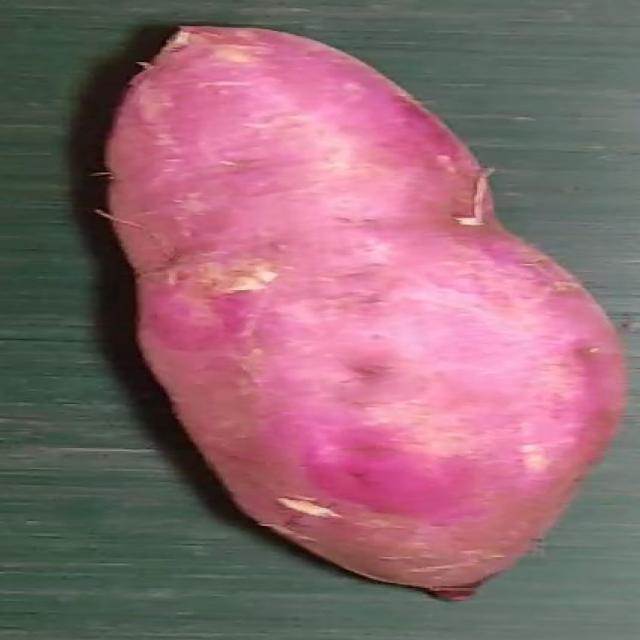Sweet Potato: (94, 24, 628, 603)
